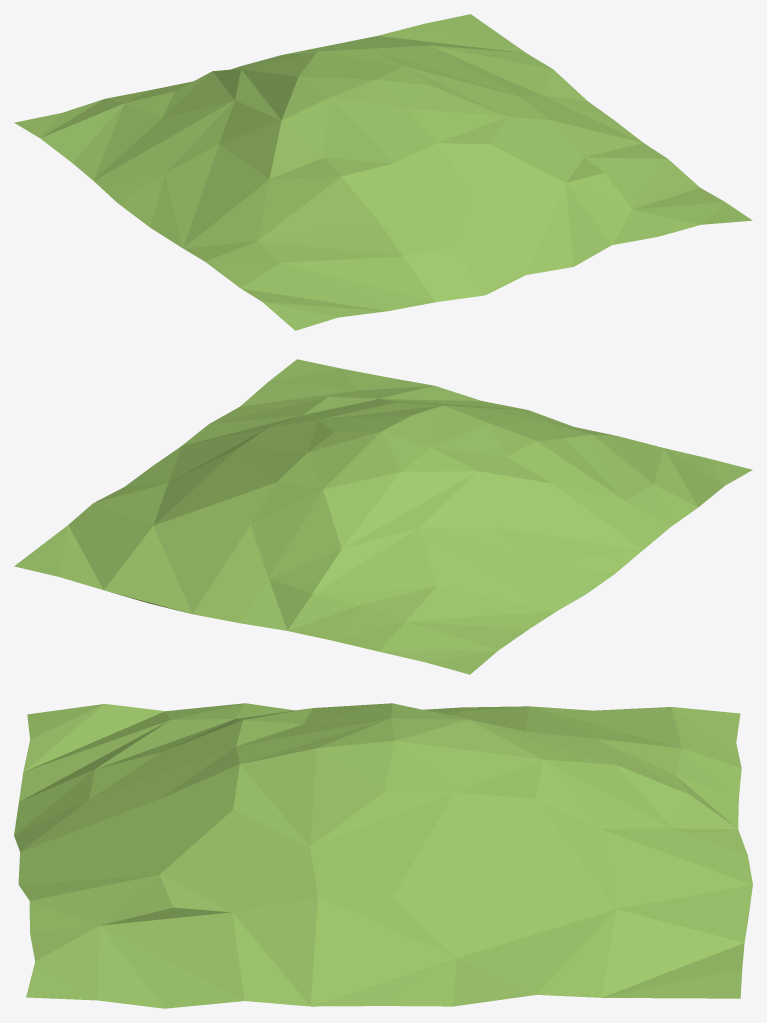
File: hill_2.fbx
3 renders of one model, top to bottom at view 1: azimuth 30°, elevation 25°; view 2: azimuth 150°, elevation 25°; view 3: azimuth 270°, elevation 25°, orthographic. The views are drawn at different scales.
Visible parts, largest first — view 1: Small_Hill_Reduced; view 2: Small_Hill_Reduced; view 3: Small_Hill_Reduced.
Part boxes in pixels (left/top/right/bottom): Small_Hill_Reduced: left=14, top=14, right=752, bottom=330; Small_Hill_Reduced: left=14, top=359, right=752, bottom=674; Small_Hill_Reduced: left=14, top=703, right=752, bottom=1008.
Bounding box in the file's own units: 244 × 49.29 × 265.
